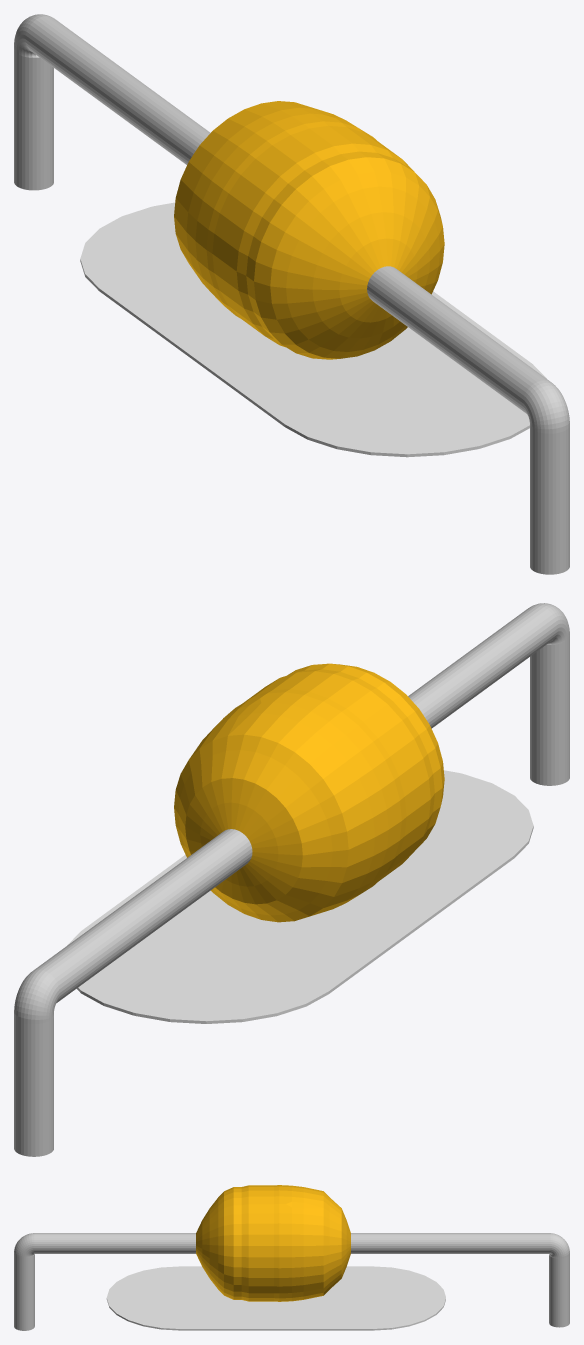
The model's file is yellow_cap_2.gltf.
The picture shows the model from 3 angles, top to bottom: view 1: azimuth 30°, elevation 25°; view 2: azimuth 150°, elevation 25°; view 3: azimuth 270°, elevation 25°; orthographic projection. The views are drawn at different scales.
Visible parts, largest first — view 1: yellow_cap_2, yellow_cap_2_plane; view 2: yellow_cap_2, yellow_cap_2_plane; view 3: yellow_cap_2, yellow_cap_2_plane.
Boxes of the visible parts, x1=… form: yellow_cap_2: x1=14, y1=14, x2=569, y2=574; yellow_cap_2_plane: x1=80, y1=202, x2=546, y2=457; yellow_cap_2: x1=14, y1=603, x2=569, y2=1156; yellow_cap_2_plane: x1=67, y1=770, x2=533, y2=1023; yellow_cap_2: x1=14, y1=1185, x2=569, y2=1330; yellow_cap_2_plane: x1=106, y1=1266, x2=445, y2=1330.
Size of the model in its own units: 0.018 by 0.0183 by 0.0676.
